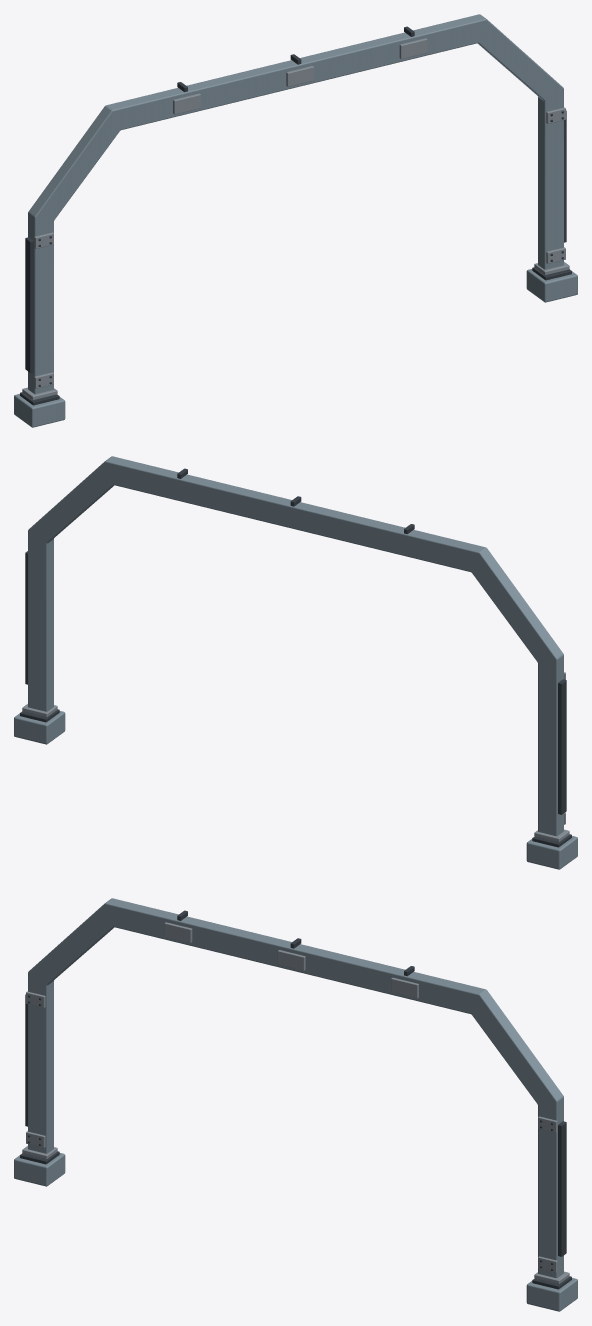
File: NA_GalleryRib_A_LOD0.fbx
3 views of the same model, one above another, from view 1: azimuth 30°, elevation 25°; view 2: azimuth 150°, elevation 25°; view 3: azimuth 330°, elevation 25° (orthographic).
Parts seen in each view (by area): view 1: NA_GalleryRib_A_LOD0; view 2: NA_GalleryRib_A_LOD0; view 3: NA_GalleryRib_A_LOD0.
Part boxes in pixels (x1,y1,x2,y2): NA_GalleryRib_A_LOD0: (14, 14, 577, 427); NA_GalleryRib_A_LOD0: (14, 456, 577, 869); NA_GalleryRib_A_LOD0: (14, 898, 577, 1311).
Size of the model in its own units: 30.86 by 16.08 by 1.82.
